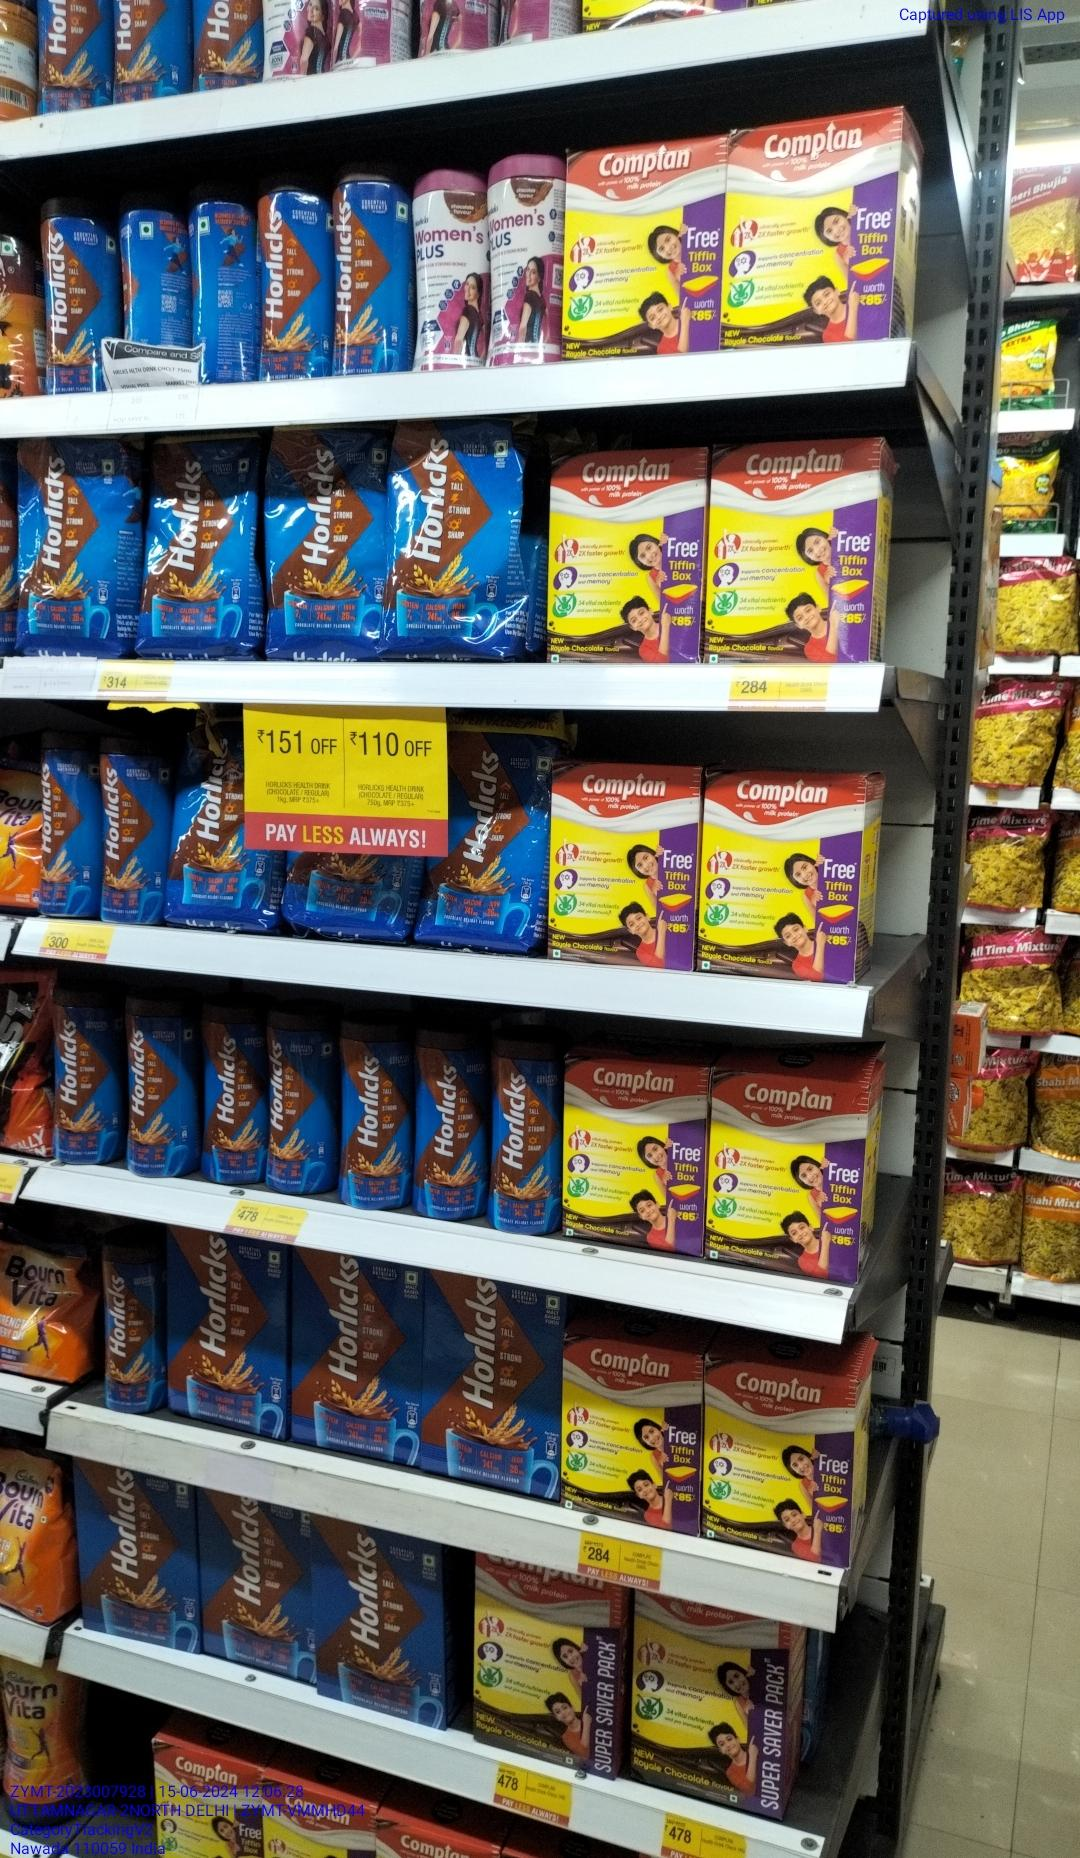BOURN_VITA_500_G_POUCH: (3, 1227, 89, 1382)
COMPLAN_CHOCOLATE_1_KG_PACK: (630, 1589, 783, 1809), (474, 1578, 616, 1777)
COMPLAN_CHOCOLATE_500_GMS_PACK: (710, 446, 870, 662), (724, 131, 885, 338), (702, 768, 858, 981), (550, 454, 701, 666), (710, 1071, 860, 1279), (564, 152, 720, 352), (707, 1359, 850, 1564), (550, 762, 689, 970), (566, 1060, 702, 1254), (566, 1337, 697, 1524), (489, 1036, 557, 1237), (413, 1027, 483, 1220), (125, 994, 197, 1177), (339, 1018, 405, 1213), (51, 986, 118, 1170), (199, 1000, 264, 1186), (267, 1007, 332, 1192)
HORLICK_CHOCOLATE_500_G_JAR: (336, 172, 413, 370), (258, 183, 328, 384), (41, 194, 100, 397), (39, 733, 99, 914), (103, 738, 161, 921), (104, 1233, 162, 1411)
HORLICK_CHOCOLATE_500_G_PACK: (427, 1269, 558, 1498), (315, 1517, 446, 1724), (166, 1229, 289, 1447), (294, 1247, 418, 1462), (73, 1461, 195, 1652), (202, 1490, 310, 1682)
HORLICK_CHOCOLATE_750_G_POUCH: (390, 418, 508, 654), (145, 433, 261, 669), (266, 429, 384, 658), (18, 442, 138, 662), (436, 710, 537, 948)
